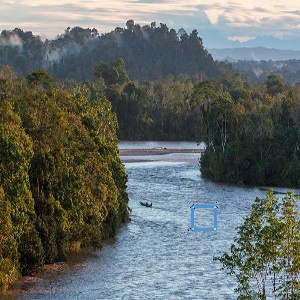square: (189, 203, 218, 232)
